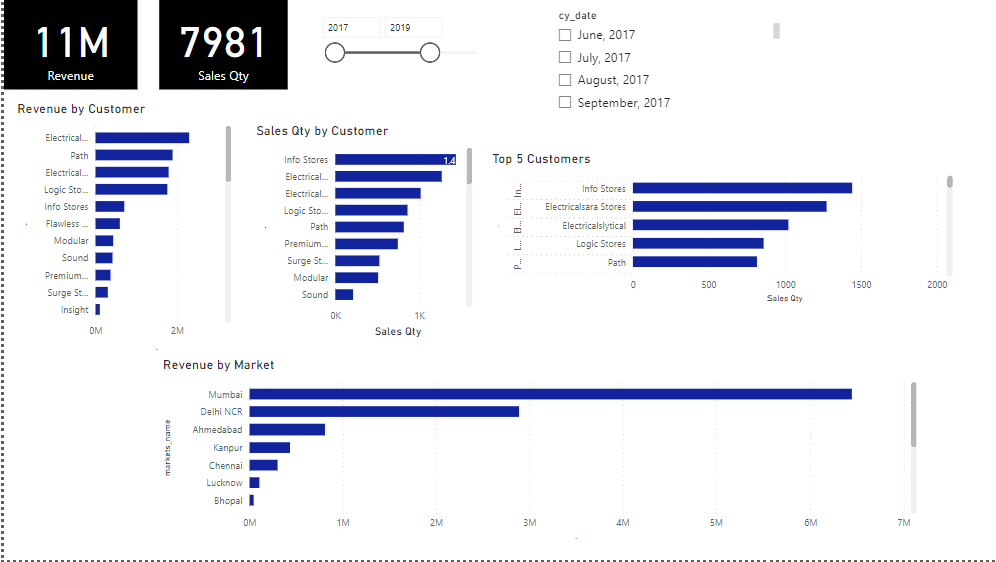

This screenshot's page, from the dashboard's own definition file:
{"tool":"powerbi","page":{"name":"Page 1","canvas":[1280,720],"ordinal":0},"visuals":[{"type":"card","fields":{"Values":["BaseMeasures.Revenue"]},"box":[0,0,171.8,115.4],"z":0},{"type":"card","fields":{"Values":["BaseMeasures.Sales Qty"]},"box":[200,0,165.4,115.4],"z":1000},{"type":"barChart","title":"Revenue by Customer","fields":{"Y":["BaseMeasures.Revenue"],"Category":["customer.custmer_name"]},"box":[12.8,130.8,285.9,329.5],"z":2000},{"type":"barChart","title":"Sales Qty by Customer","fields":{"Y":["BaseMeasures.Sales Qty"],"Category":["customer.custmer_name"]},"box":[319.2,159,288.5,282.1],"z":3000},{"type":"slicer","fields":{"Values":["date.year"]},"box":[397.4,11.5,233.3,92.3],"z":4000},{"type":"slicer","fields":{"Values":["date.cy_date"]},"box":[702.6,6.4,301.3,143.6],"z":5000},{"type":"barChart","title":"Revenue by Market","fields":{"Y":["BaseMeasures.Revenue"],"Category":["market.markets_name"]},"box":[200,460,980,240],"z":6000},{"type":"barChart","title":"Top 5 Customers","fields":{"Y":["BaseMeasures.Sales Qty"],"Category":["customer.custmer_name","customer.custmer_name"]},"box":[624.4,194.9,602.6,201.3],"z":7000}]}

Visuals, with their boxes in screenshot pixels (x1, y1, x2, y2), scaled from the page's 1280x720 canvas onto the 996x562 screenshot:
card - BaseMeasures.Revenue: [0, 0, 134, 90]
card - BaseMeasures.Sales Qty: [156, 0, 284, 90]
"Revenue by Customer" barChart: [10, 102, 232, 359]
"Sales Qty by Customer" barChart: [248, 124, 473, 344]
slicer - date.year: [309, 9, 491, 81]
slicer - date.cy_date: [547, 5, 781, 117]
"Revenue by Market" barChart: [156, 359, 918, 546]
"Top 5 Customers" barChart: [486, 152, 955, 309]
